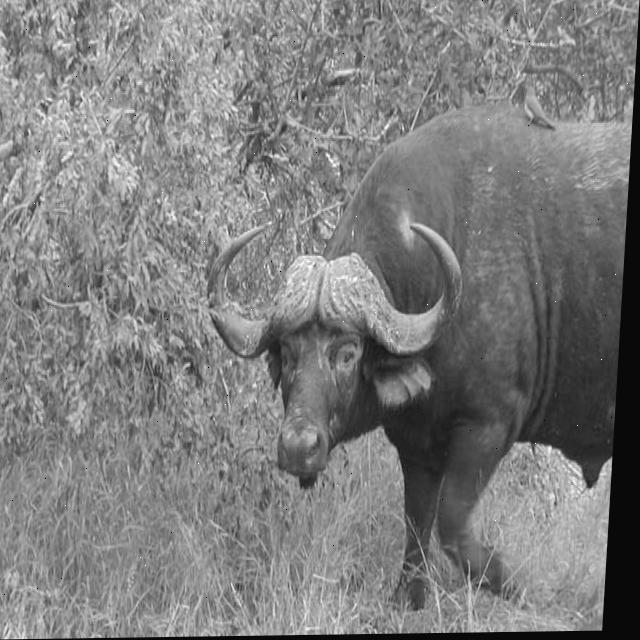Buffalo: (190, 102, 633, 612)
